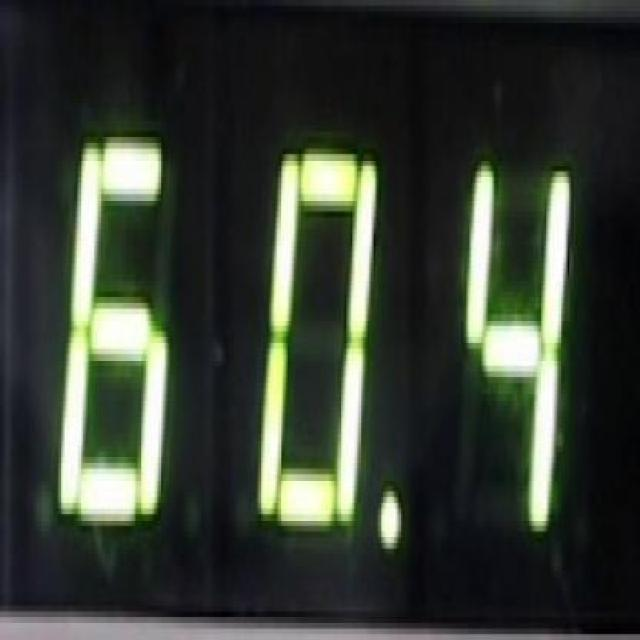.: (366, 472, 414, 570)
0: (259, 143, 375, 532)
4: (446, 150, 583, 552)
6: (60, 131, 170, 526)
